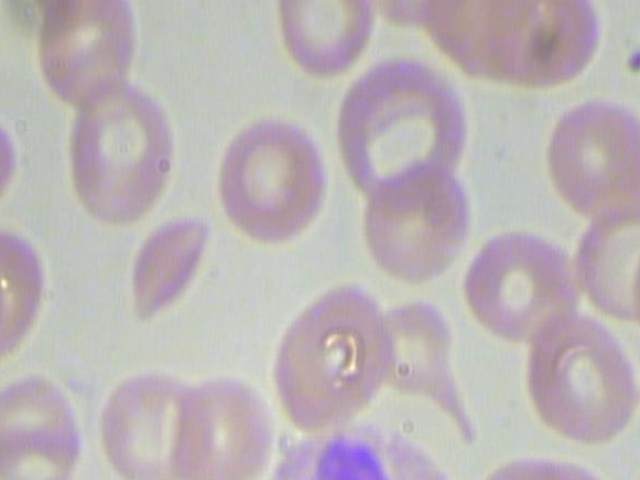WBC: (241, 417, 485, 480)
